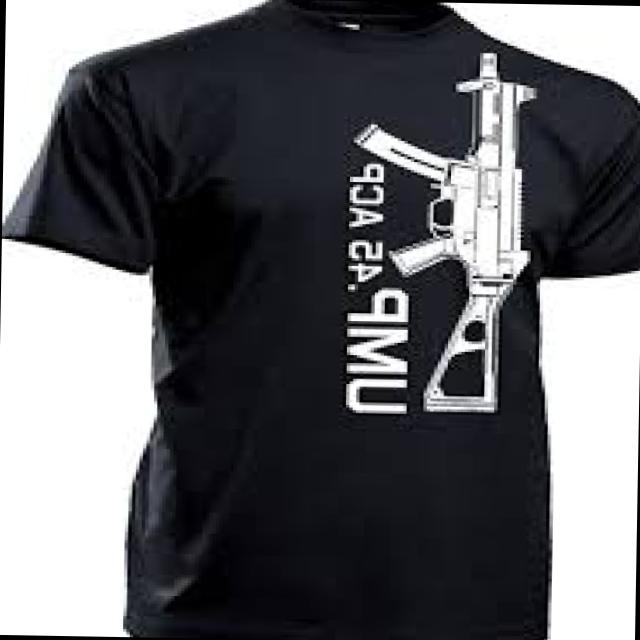Gun: (355, 40, 537, 429)
